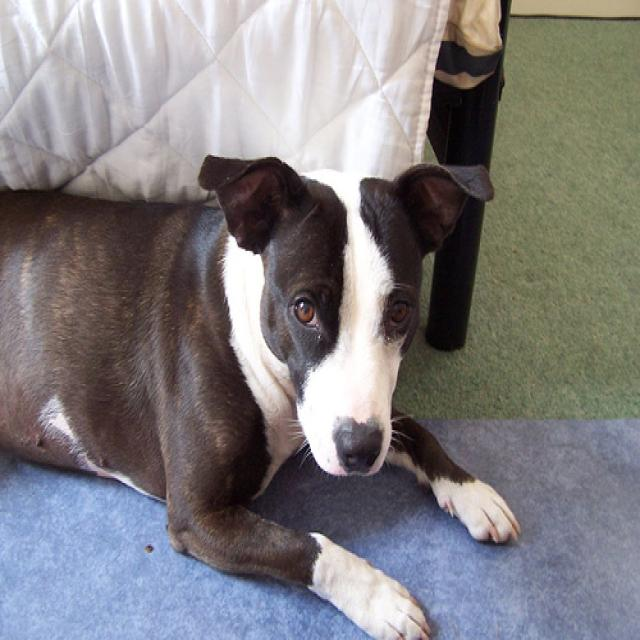dog-staffordshire_bull_terrier: (1, 145, 530, 637)
